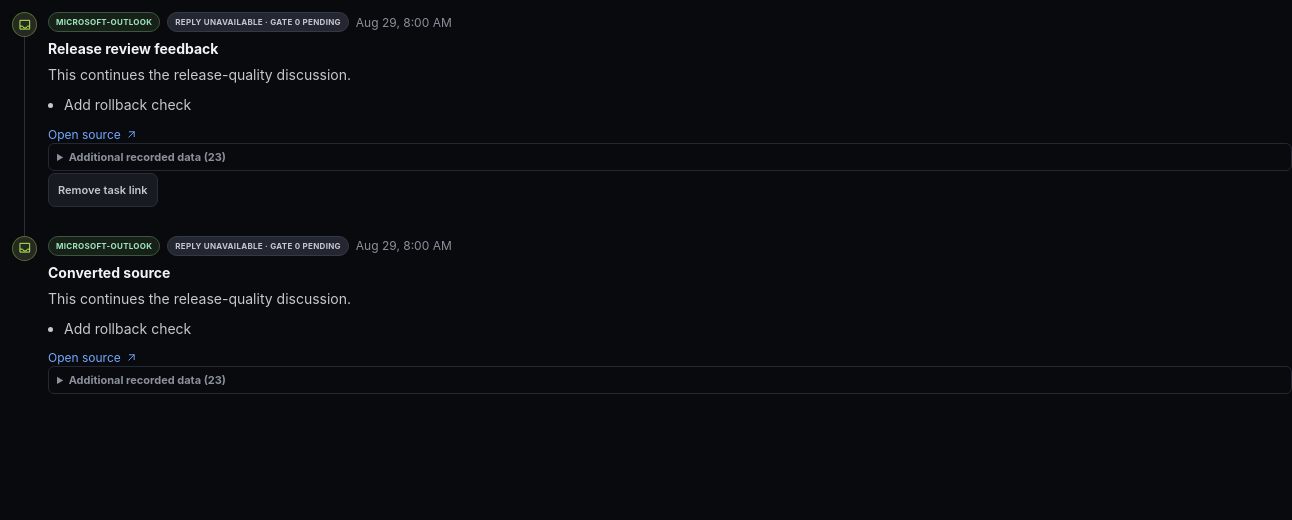
Scenario: a confirmed removal with a canonical receipt offers Undo outside every card
Click the button "Remove task link" at coordinates (103, 190), box [48,173,158,207]
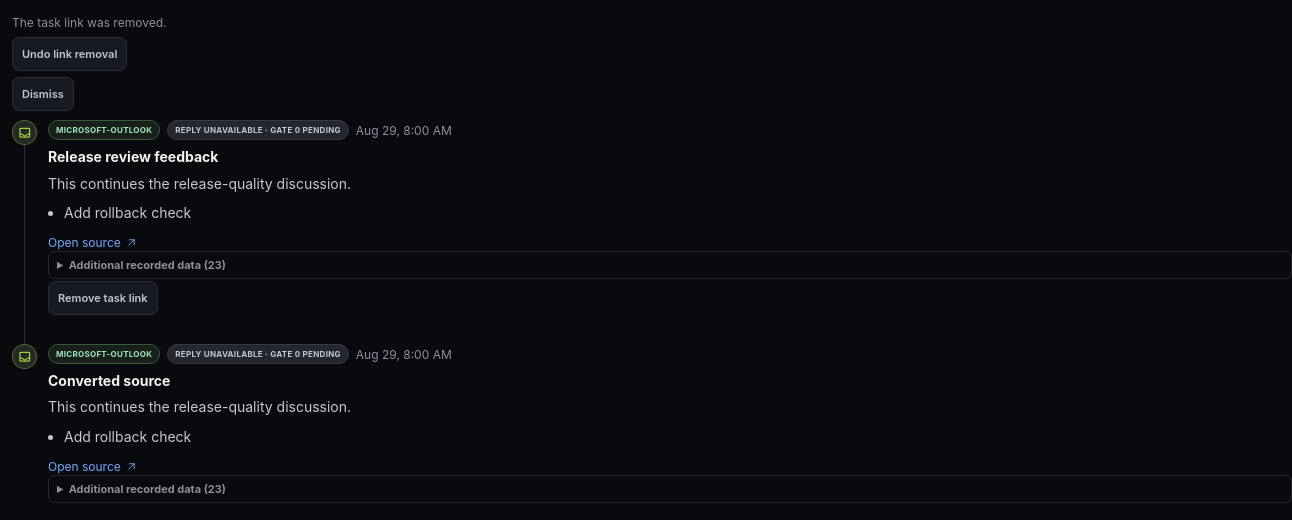
Expected: the button "Undo link removal" is shown, [12,37,127,71]
Expected: the message reads "The task link was removed.", [12,15,166,30]
Expected: the button "Dismiss" is enabled, [12,77,74,111]
